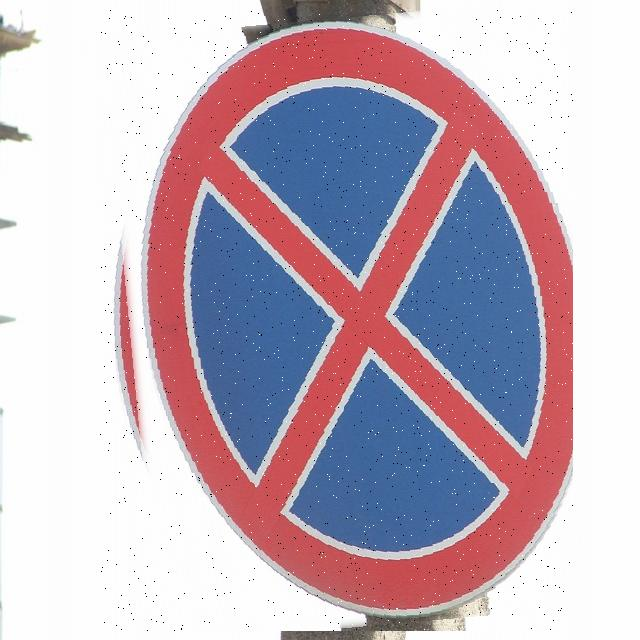no stopping: (99, 10, 573, 631)
